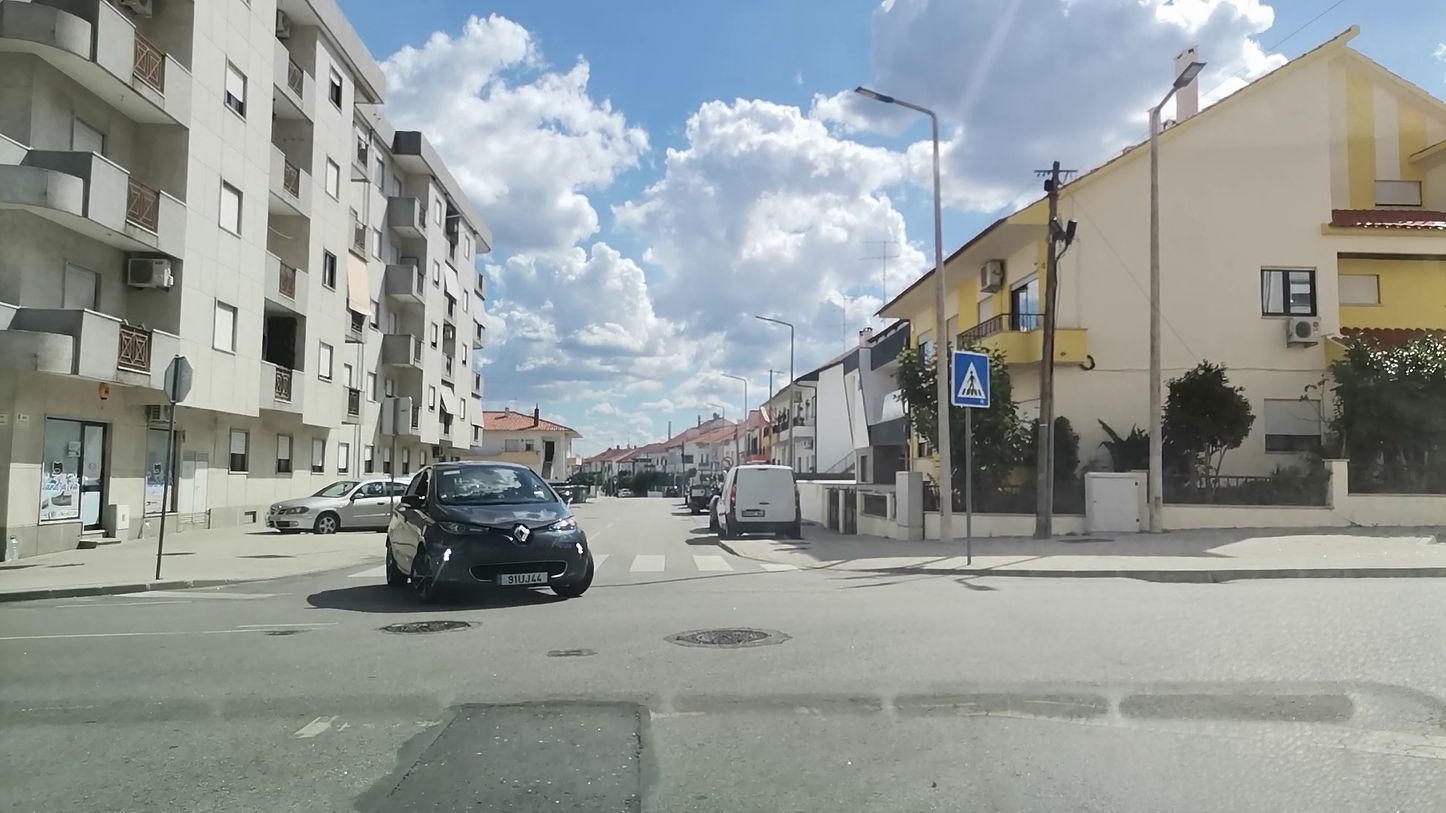Stairs: (594, 556, 799, 576)
